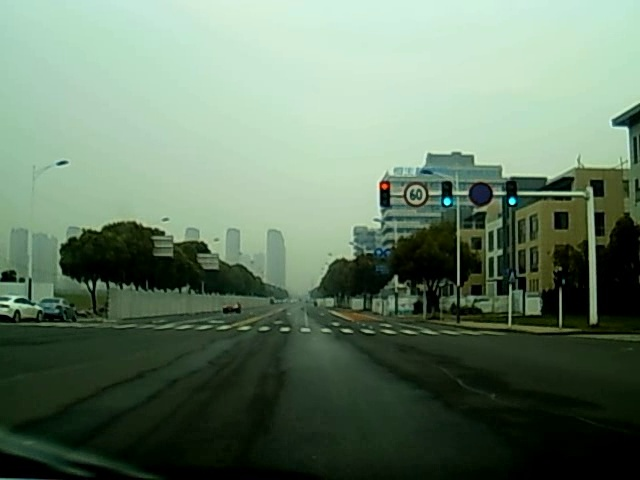Traffic_Light_go: (506, 182, 517, 212), (442, 183, 453, 212)
Traffic_Light_stop: (379, 182, 390, 207)
